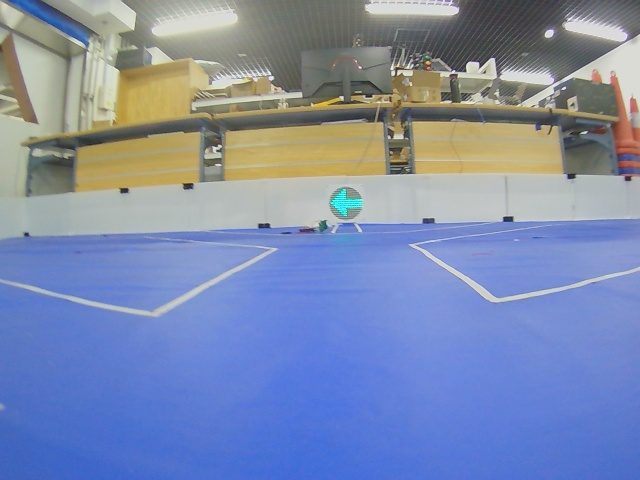left_green: (329, 187, 364, 220)
